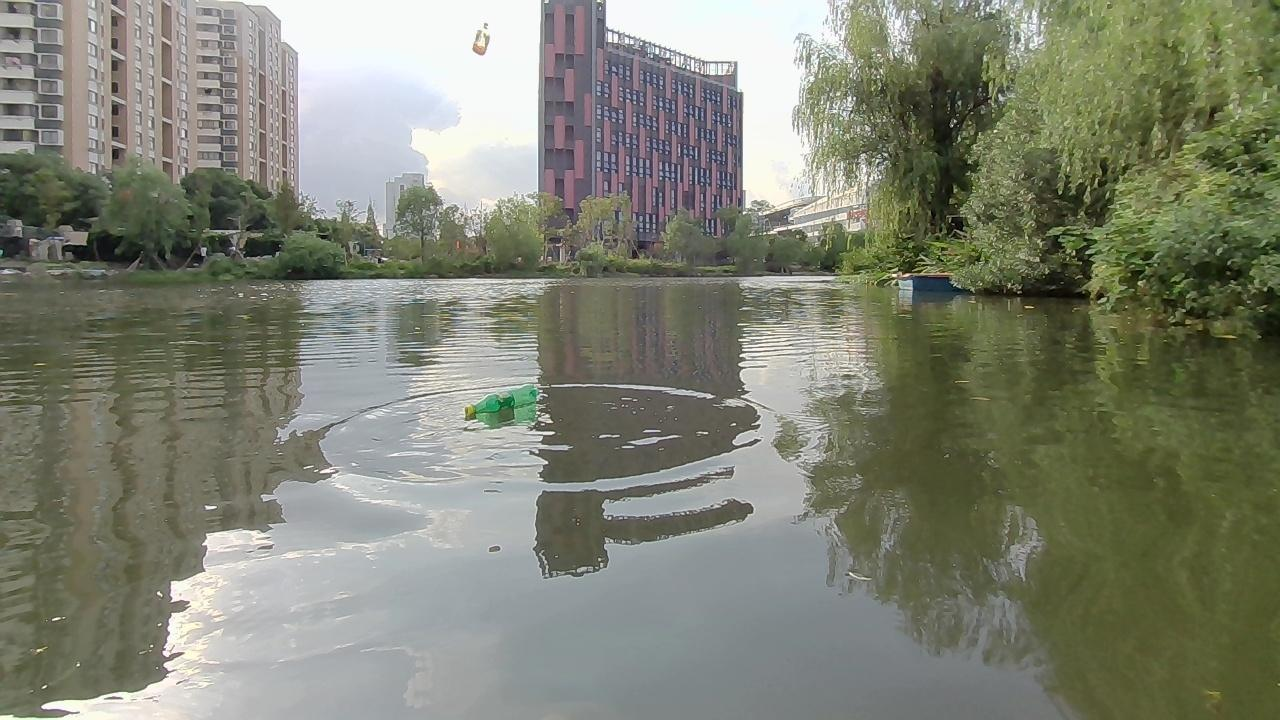bottle: (459, 381, 551, 421)
